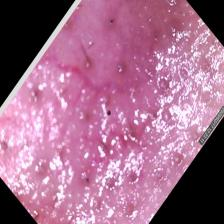Oily: (0, 1, 224, 224)
